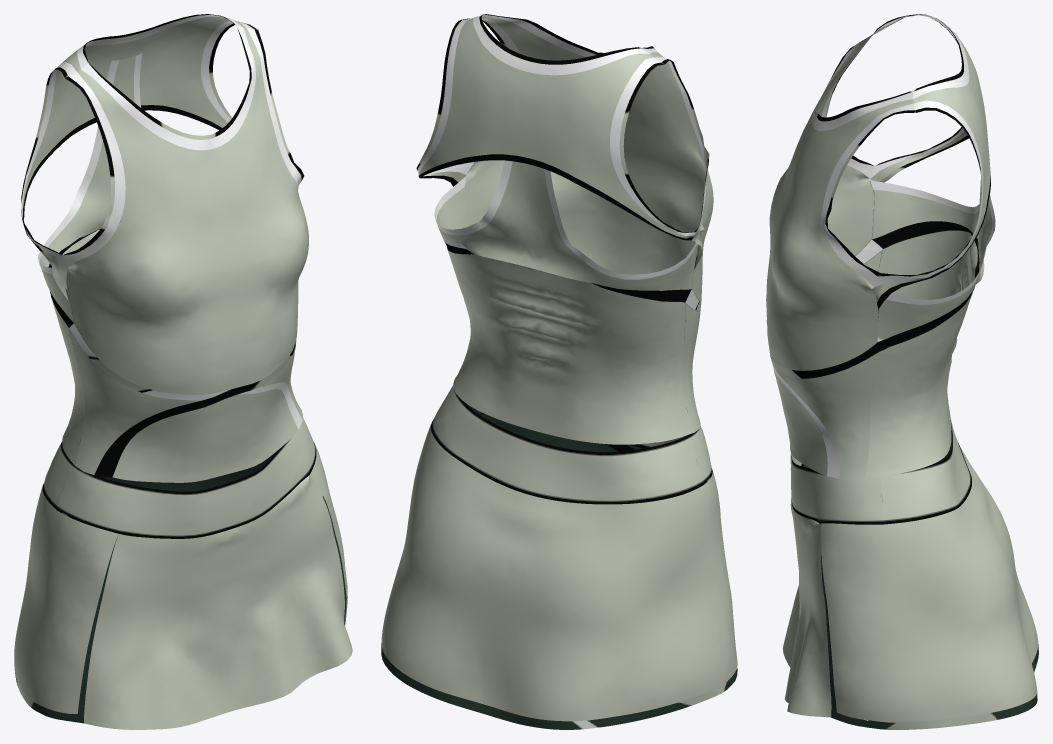
3 renders of one model, left to right at view 1: azimuth 30°, elevation 25°; view 2: azimuth 150°, elevation 25°; view 3: azimuth 270°, elevation 25°, orthographic. The views are drawn at different scales.
Visible parts, largest first — view 1: NB; view 2: NB; view 3: NB.
Part boxes in pixels (x1,y1,x2,y2): NB: (14,14,352,729); NB: (381,14,737,729); NB: (766,14,1038,729).
Size of the model in its own units: 0.3386 by 0.6718 by 0.2635.
Materials: 7 (7 with a texture image).
